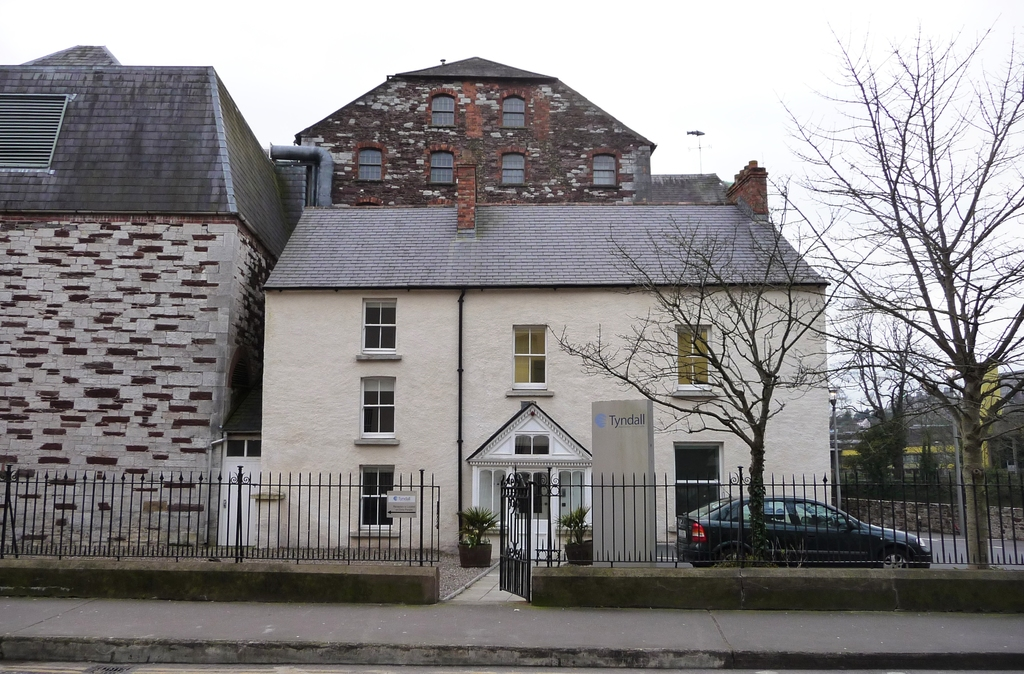Car: (666, 488, 928, 574)
